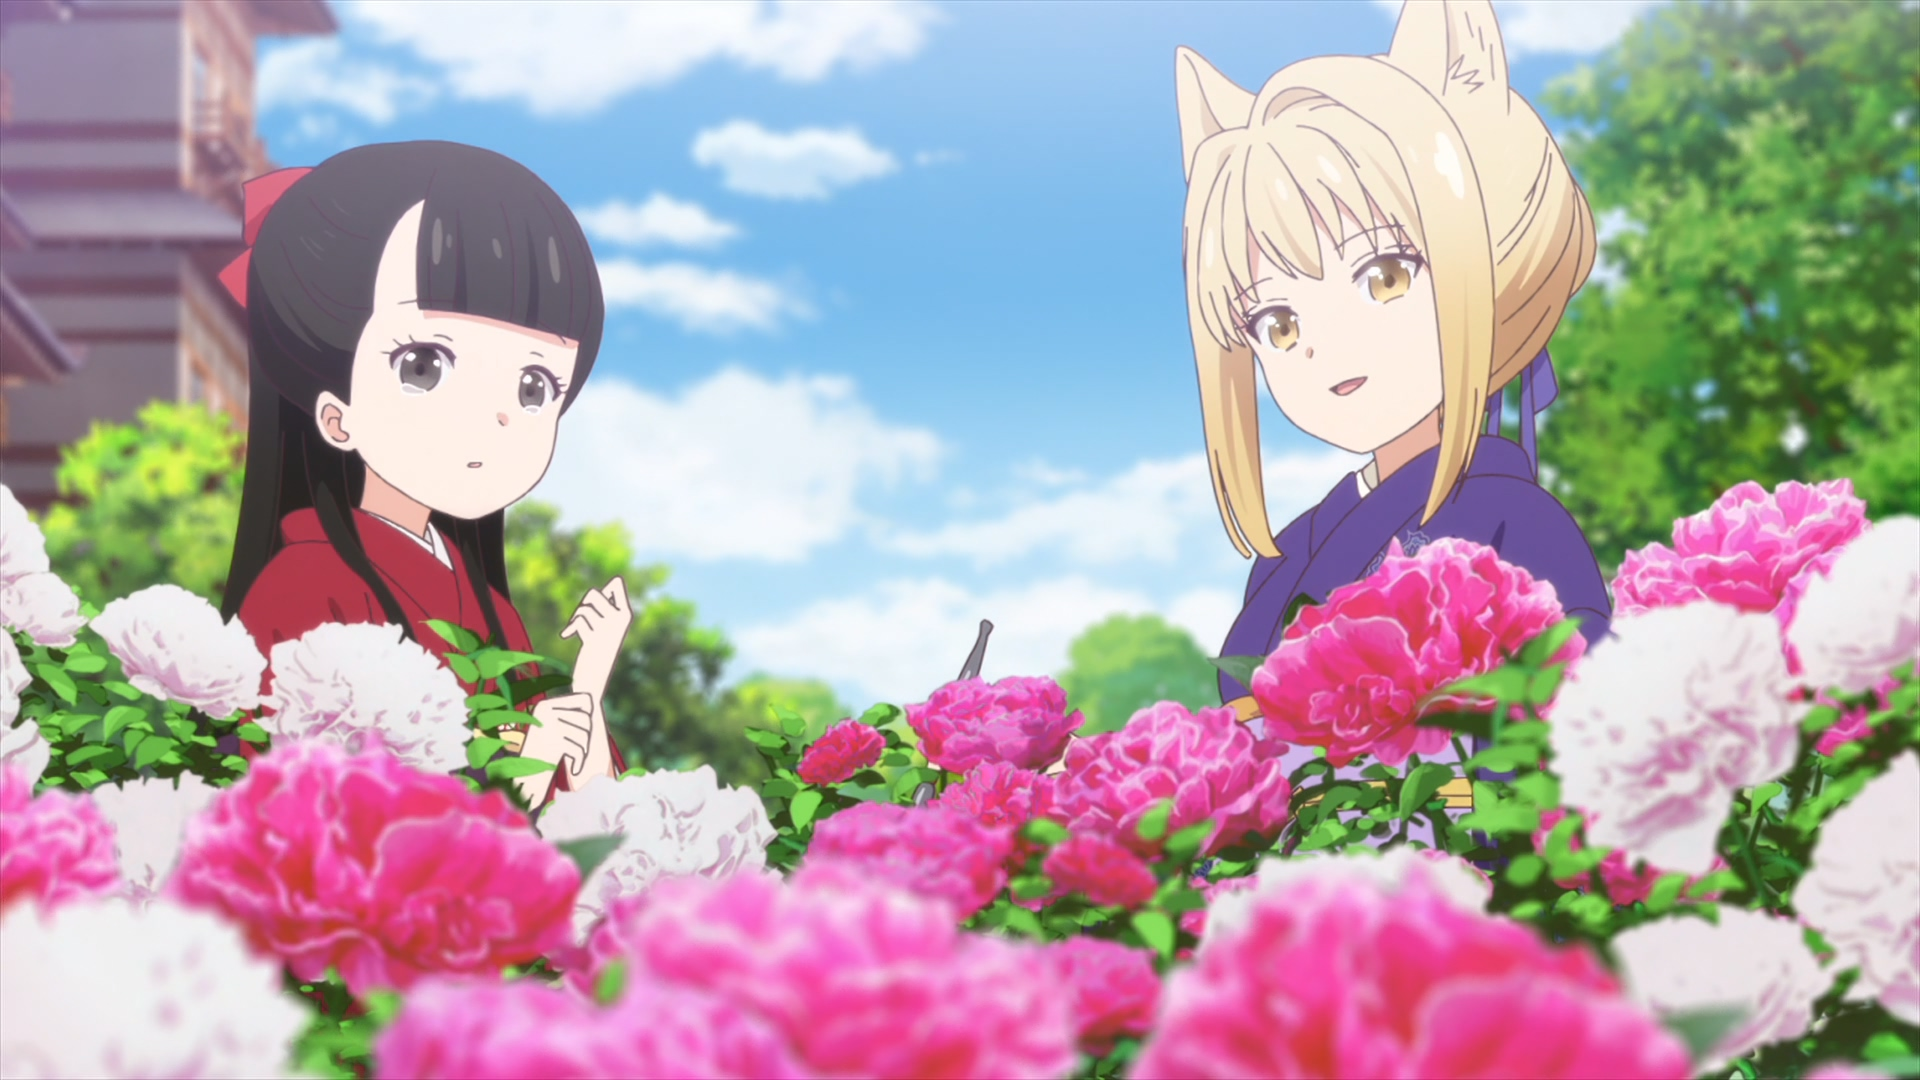其他: (215, 141, 629, 814)
桐: (1175, 1, 1611, 705)
